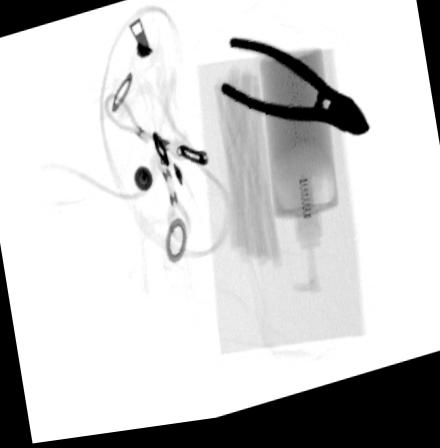Pliers: (220, 43, 371, 146)
